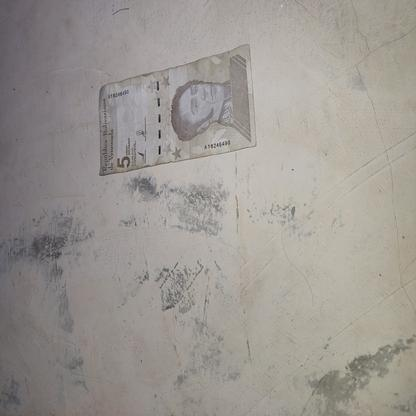five-front-vef: (97, 43, 256, 175)
